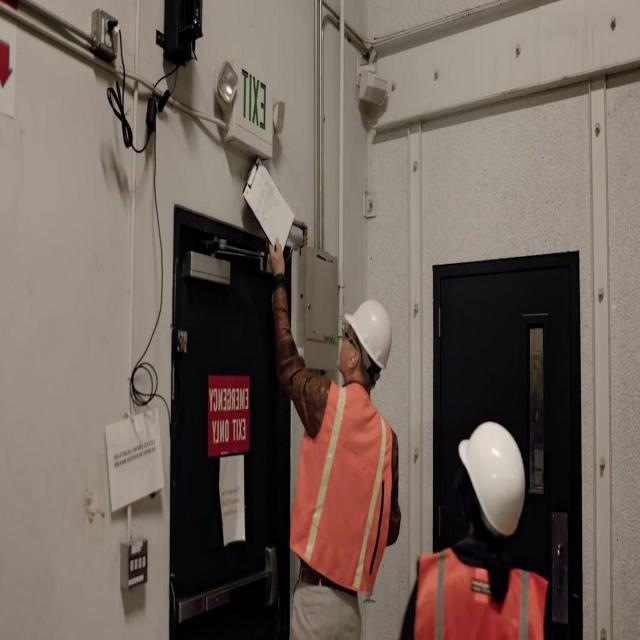Reflective-Jacket: (280, 376, 405, 607), (404, 541, 556, 640)
Safety-Helmet: (451, 408, 537, 548), (336, 286, 402, 383)
